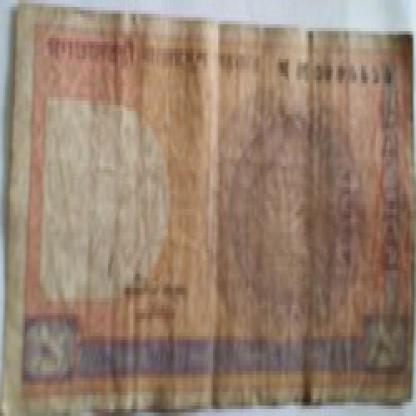One Taka: (27, 319, 70, 385)
